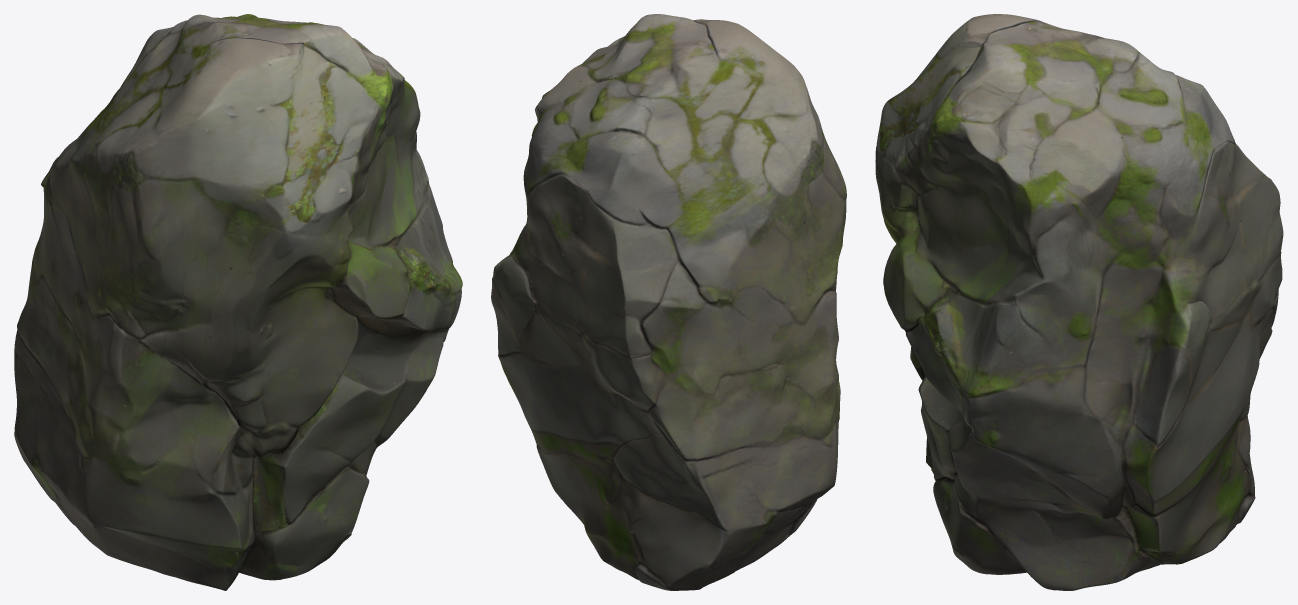
File: PIEDRAGRANDE2.fbx
3 renders of one model, left to right at view 1: azimuth 30°, elevation 25°; view 2: azimuth 150°, elevation 25°; view 3: azimuth 270°, elevation 25°, orthographic. The views are drawn at different scales.
Parts seen in each view (by area): view 1: input; view 2: input; view 3: input.
Boxes of the visible parts, x1,y1,x2,y2 form: input: (14, 14, 462, 590); input: (491, 14, 846, 590); input: (875, 14, 1283, 590).
Size of the model in its own units: 696 by 1000 by 711.
Materials: 1 (1 with a texture image).
